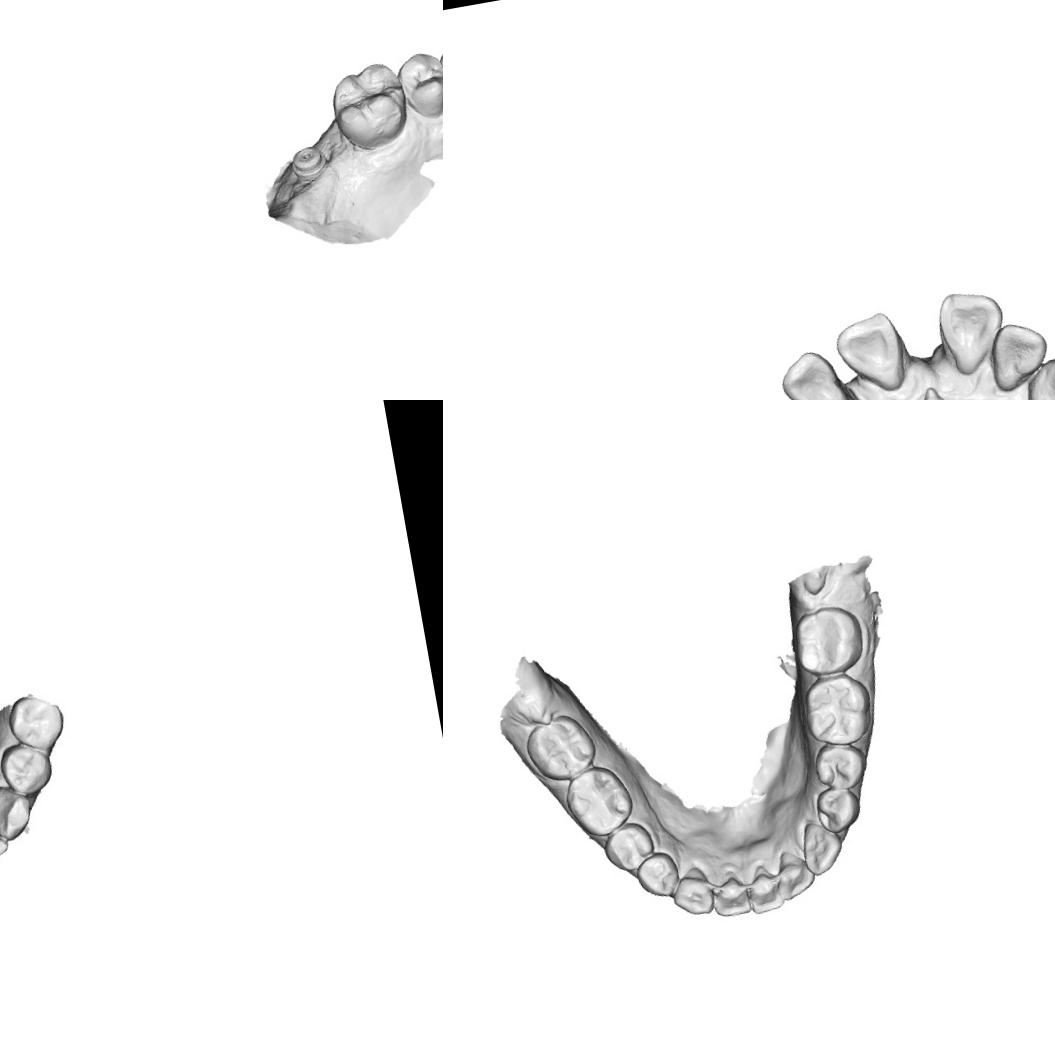canine: (796, 815, 848, 878), (666, 861, 719, 920), (0, 778, 40, 842), (1017, 349, 1055, 400)
implant: (287, 142, 330, 182)
incisor: (933, 284, 1013, 377), (828, 308, 910, 397), (984, 318, 1054, 394), (774, 343, 853, 400), (770, 848, 818, 902), (742, 864, 786, 916), (707, 872, 754, 920), (0, 804, 11, 868)
molar: (324, 57, 412, 154), (797, 668, 879, 752), (558, 758, 639, 843), (786, 599, 869, 679), (519, 708, 601, 787)
premolar: (3, 690, 69, 758), (393, 47, 443, 122), (598, 816, 659, 877), (808, 735, 871, 793), (0, 738, 56, 798), (630, 847, 684, 904), (811, 781, 864, 837)
